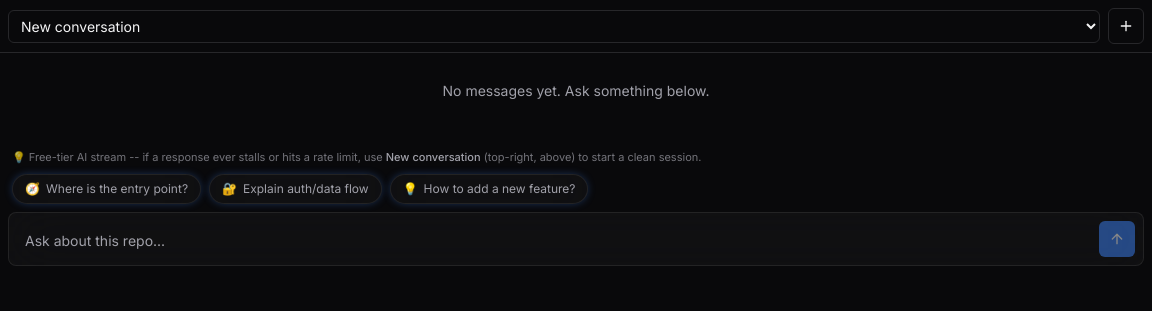
it: ChatPanel error retry › does not auto-retry a failure that happens after streaming has already started
This screenshot has width=1152, height=311.
Type "Find the answer" into the text box with placeholder "Ask about this repo..." at (554, 240), box [17,224,1091,256]
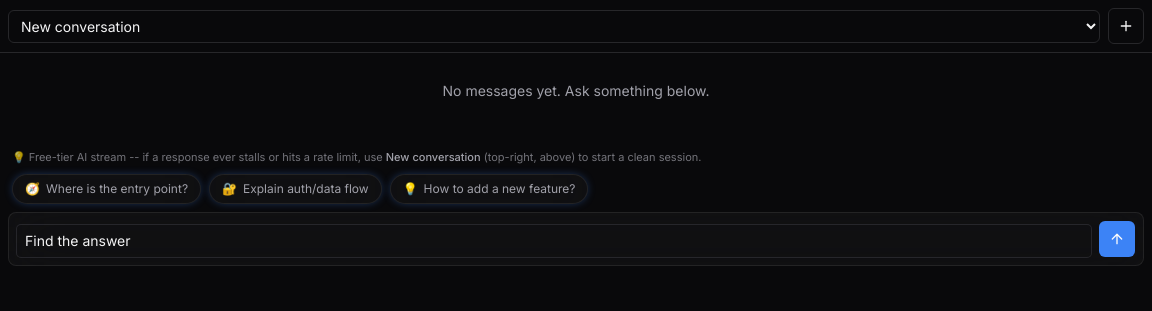
Click the button named "Send message" at (1117, 238), box [1099,220,1135,256]
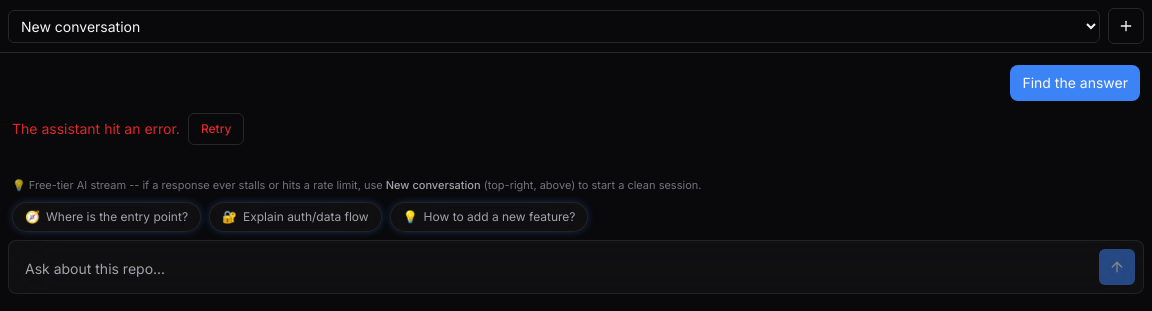
Result: the text "The assistant hit an error." is shown at [12,119,180,139]
Result: the button "Retry" is shown at [188,113,244,145]
